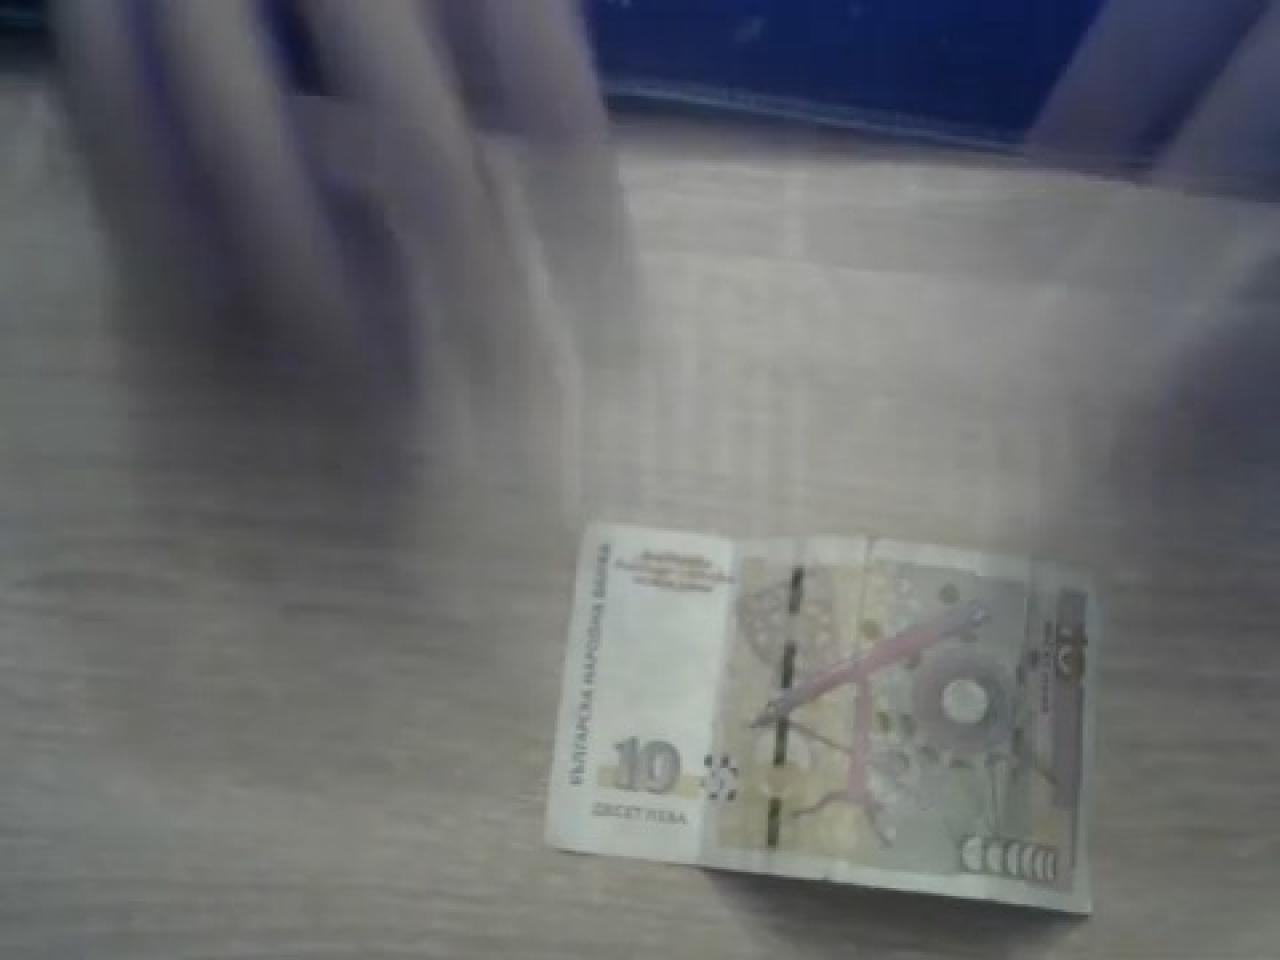10leva: (541, 523, 1099, 920)
